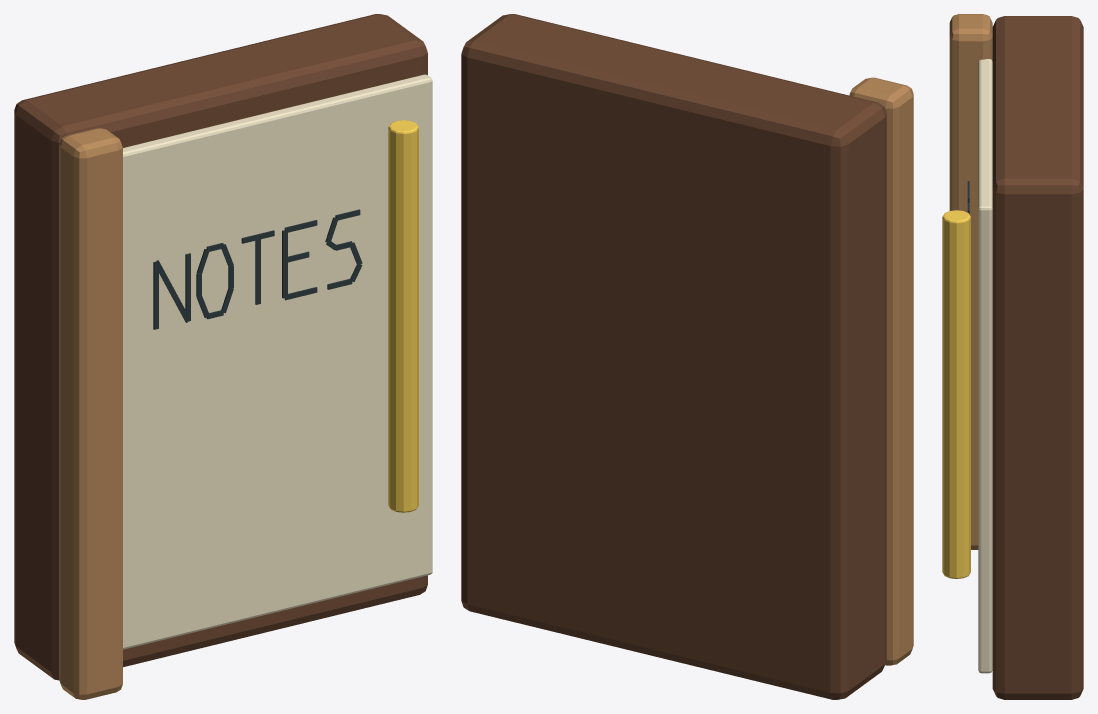
File: P012_detective_notebook.glb
3 renders of one model, left to right at view 1: azimuth 30°, elevation 25°; view 2: azimuth 150°, elevation 25°; view 3: azimuth 270°, elevation 25°, orthographic. The views are drawn at different scales.
Visible parts, largest first — view 1: P012_pages_002, P012_cover_001, P012_spine_003, P012_pencil_005, P012_title_004; view 2: P012_cover_001, P012_spine_003; view 3: P012_cover_001, P012_pencil_005, P012_pages_002, P012_spine_003.
Part boxes in pixels (left/top/right/bottom): P012_pages_002: left=123, top=74, right=432, bottom=649; P012_cover_001: left=14, top=14, right=427, bottom=680; P012_spine_003: left=59, top=128, right=122, bottom=699; P012_pencil_005: left=388, top=120, right=418, bottom=512; P012_title_004: left=153, top=209, right=362, bottom=329; P012_cover_001: left=461, top=14, right=886, bottom=699; P012_spine_003: left=849, top=77, right=913, bottom=665; P012_cover_001: left=992, top=16, right=1083, bottom=699; P012_pencil_005: left=942, top=210, right=970, bottom=578; P012_pages_002: left=978, top=59, right=992, bottom=673; P012_spine_003: left=949, top=14, right=992, bottom=549.
Size of the model in its own units: 0.171 by 0.24 by 0.059.
